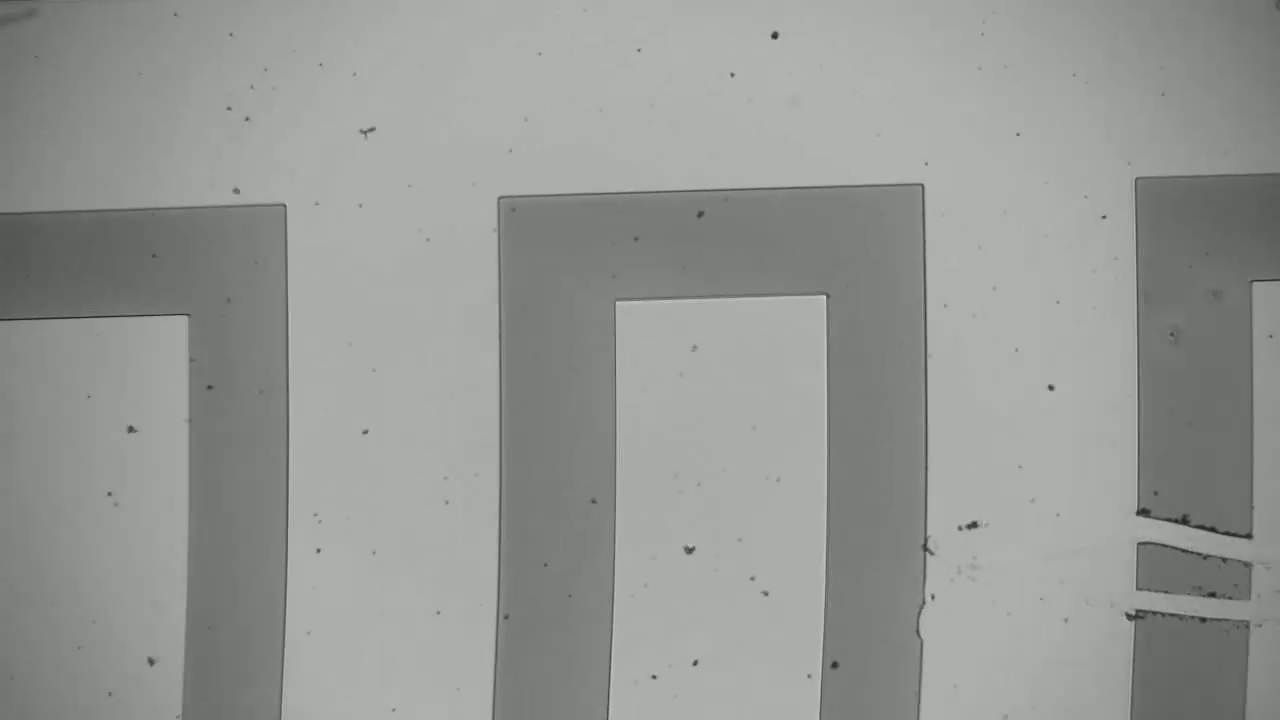Short_circuit: (1104, 489, 1269, 571), (1109, 570, 1272, 645)
